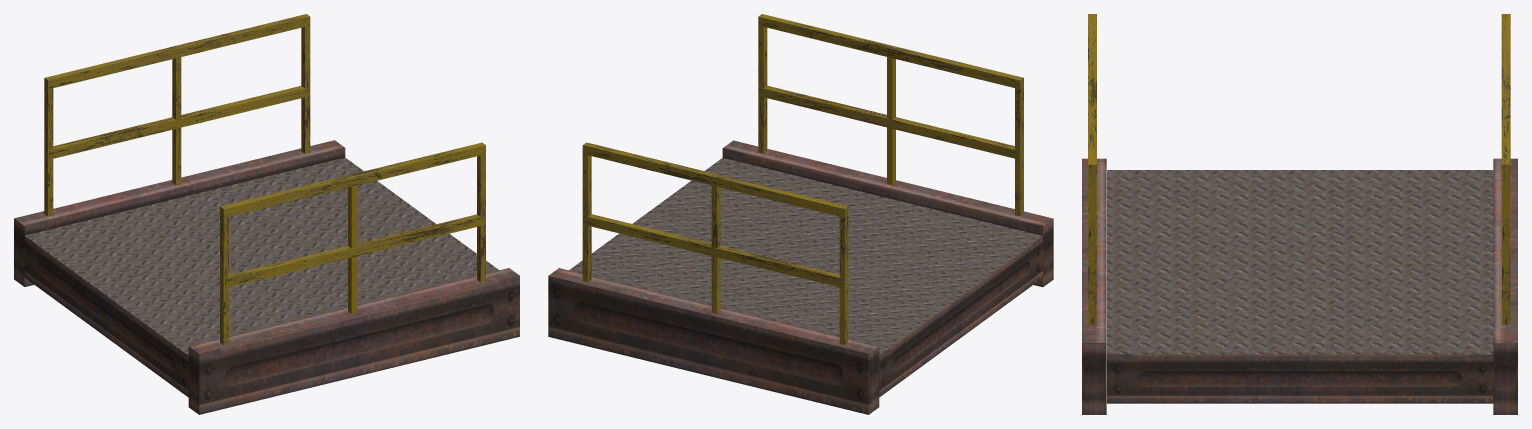
File: OCONN01.glb
3 views of the same model, side by side, from view 1: azimuth 30°, elevation 25°; view 2: azimuth 150°, elevation 25°; view 3: azimuth 270°, elevation 25° (orthographic). The views are drawn at different scales.
Parts seen in each view (by area): view 1: _OCONN01; view 2: _OCONN01; view 3: _OCONN01.
Part boxes in pixels (x1=…): _OCONN01: x1=14, y1=14, x2=519, y2=414; _OCONN01: x1=548, y1=14, x2=1053, y2=414; _OCONN01: x1=1082, y1=14, x2=1517, y2=414.
Size of the model in its own units: 4 by 2.35 by 4.
Materials: 3 (3 with a texture image).
